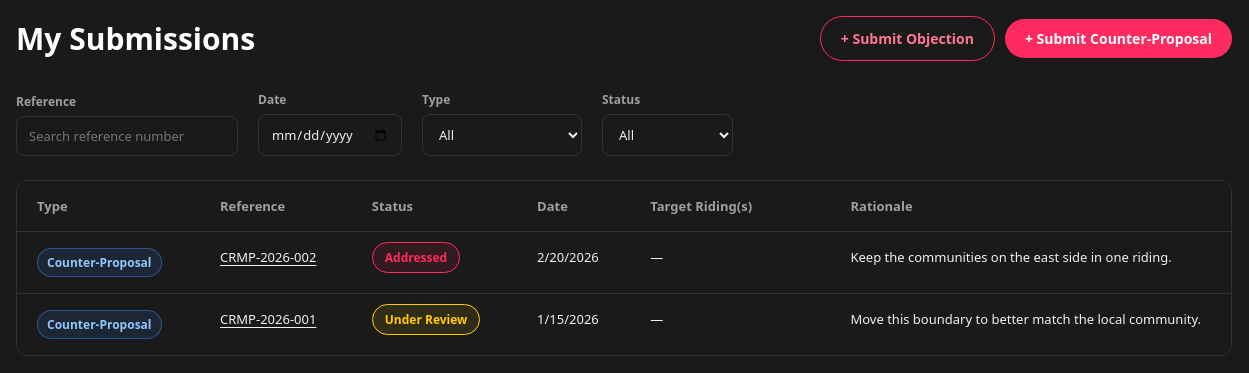
Scenario: filters submissions by reference number
The image size is (1249, 373).
Expected: the text "CRMP-2026-001" is shown, [200,294,352,355]
Type "2026-002" into the field labelled "Reference" at point(127, 136), box [16,116,238,156]
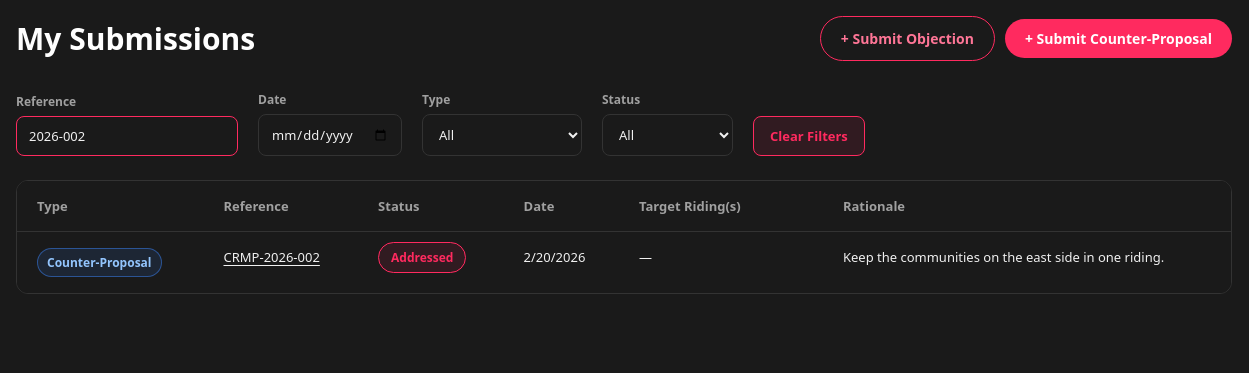
Expected: the text "CRMP-2026-002" is shown, [204,232,358,293]
Expected: the text "CRMP-2026-001" is gone
